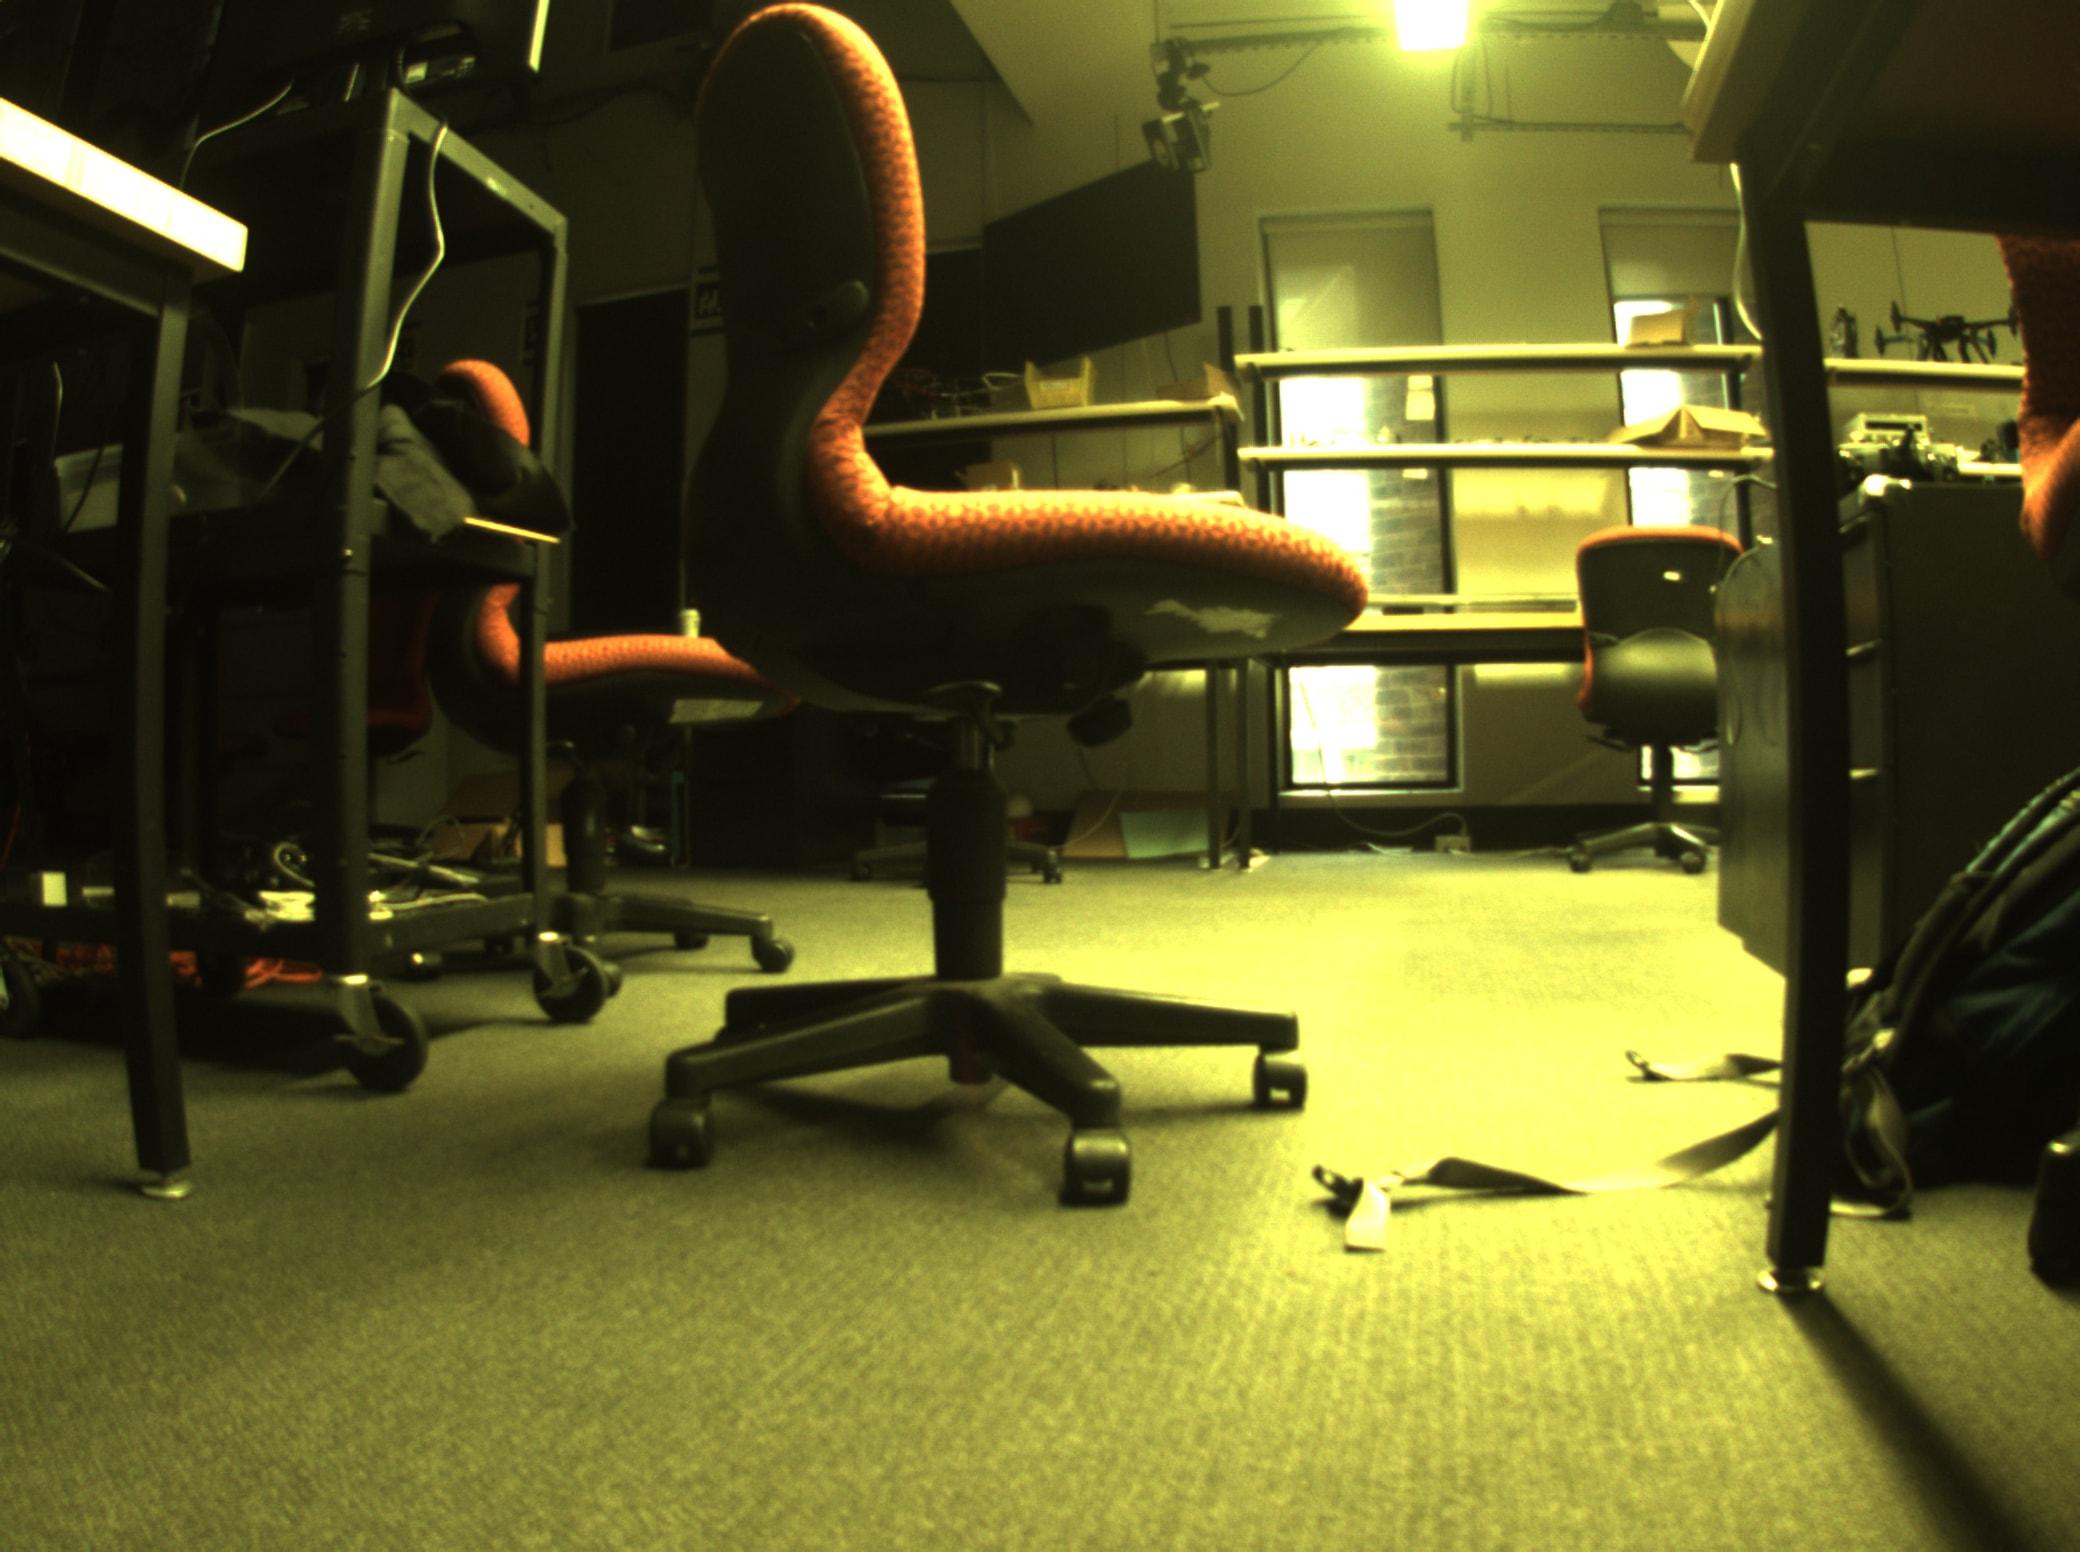chair: (659, 2, 1369, 1239), (398, 328, 805, 1012), (1540, 489, 1751, 908)
